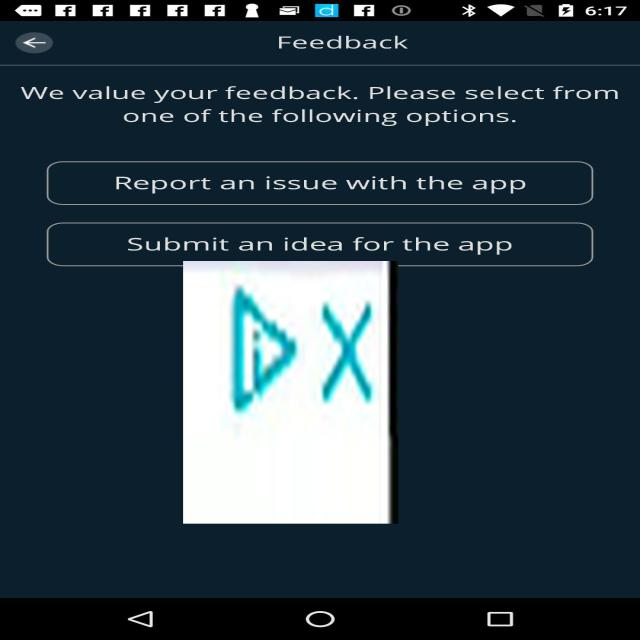sneaking: (183, 261, 398, 524)
